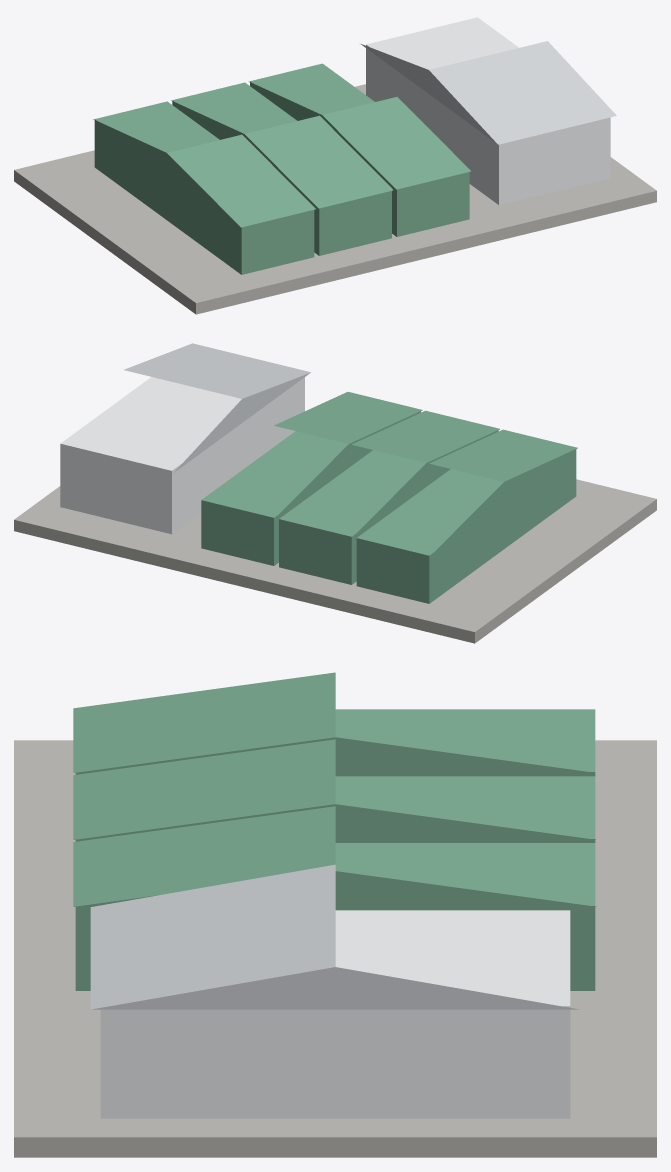
File: lm_115_vuon_dia_lan_hoang_vu_va_nha_luoi_cong_nghe_cao_xuan_tho_trai_mat.glb
3 renders of one model, top to bottom at view 1: azimuth 30°, elevation 25°; view 2: azimuth 150°, elevation 25°; view 3: azimuth 270°, elevation 25°, orthographic. The views are drawn at different scales.
Visible parts, largest first — view 1: lm_115_vuon_dia_lan_hoang_vu_va_nha_luoi_cong_nghe_cao_xuan_; view 2: lm_115_vuon_dia_lan_hoang_vu_va_nha_luoi_cong_nghe_cao_xuan_; view 3: lm_115_vuon_dia_lan_hoang_vu_va_nha_luoi_cong_nghe_cao_xuan_.
Boxes of the visible parts, left/top/right/bottom form: lm_115_vuon_dia_lan_hoang_vu_va_nha_luoi_cong_nghe_cao_xuan_: left=14, top=17, right=656, bottom=314; lm_115_vuon_dia_lan_hoang_vu_va_nha_luoi_cong_nghe_cao_xuan_: left=14, top=343, right=656, bottom=643; lm_115_vuon_dia_lan_hoang_vu_va_nha_luoi_cong_nghe_cao_xuan_: left=14, top=672, right=656, bottom=1157.
Size of the model in its own units: 38 by 7.8 by 26.
